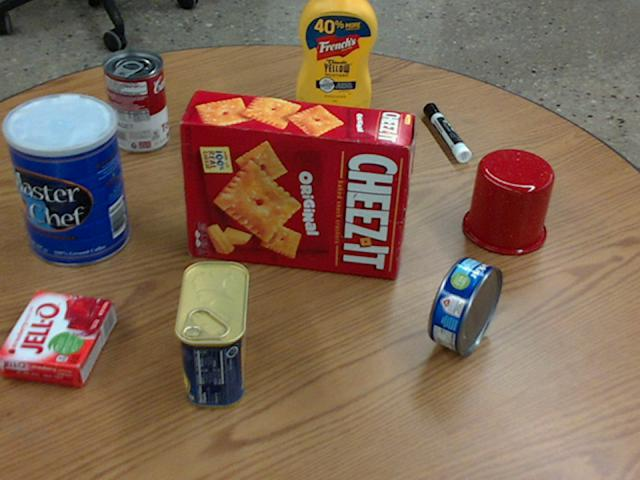cracker_box: (181, 90, 414, 279)
gelatin_box: (0, 290, 113, 384)
large_marker: (425, 102, 471, 162)
master_chef_can: (3, 94, 128, 266)
mug: (461, 148, 553, 254)
mustard_bottle: (297, 0, 377, 114)
potted_meat_can: (172, 260, 247, 406)
sugar_box: (215, 101, 377, 188)
tomato_soup_can: (103, 49, 168, 151)
tuna_fish_can: (429, 257, 501, 354)
